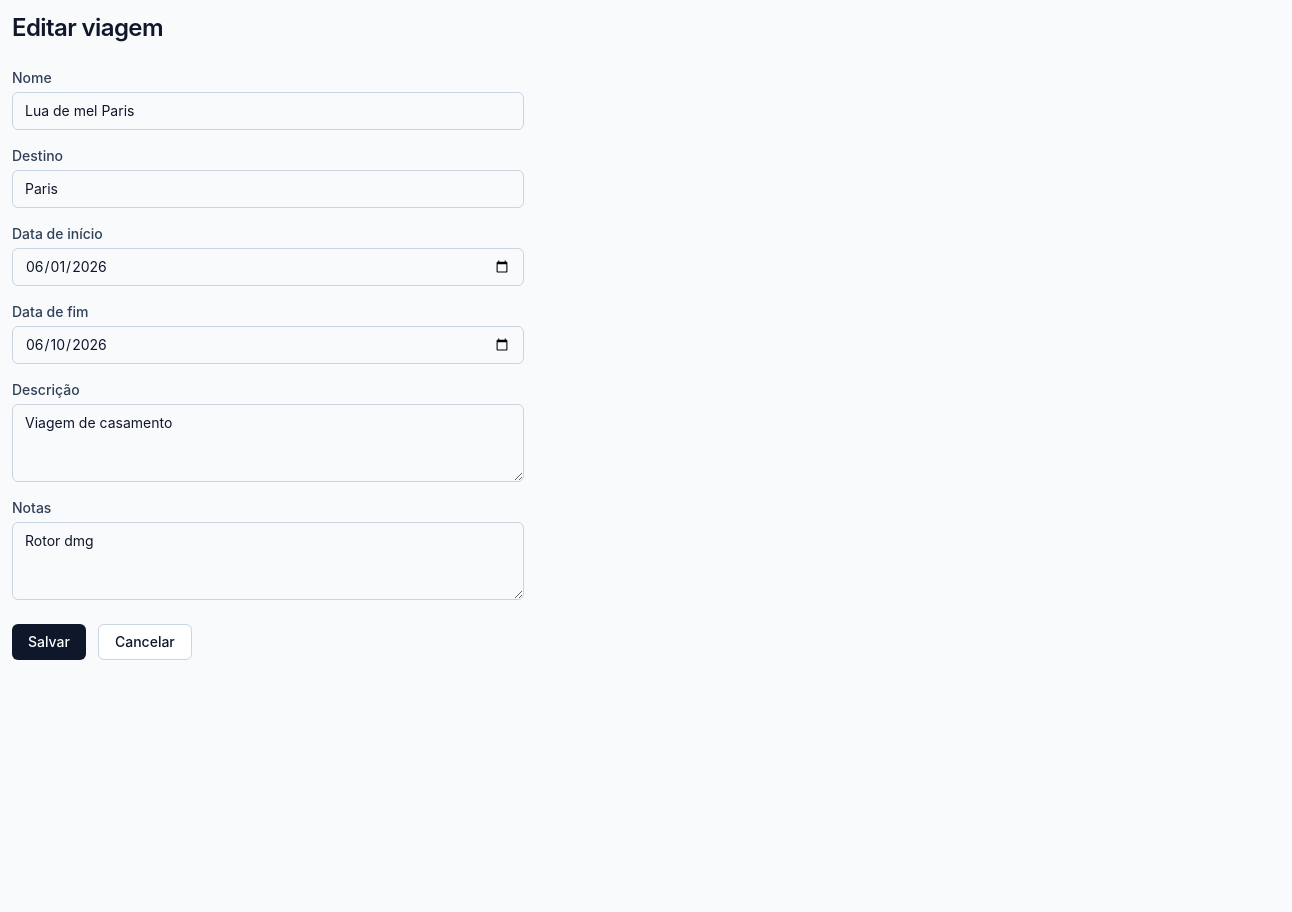
Test: TripEditPage › 400 error shows the backend message
Check: the field labelled "Nome" is shown, box top-left (12, 92), bottom-right (524, 130)
Click the button "Salvar" at (49, 642), box top-left (12, 624), bottom-right (86, 660)
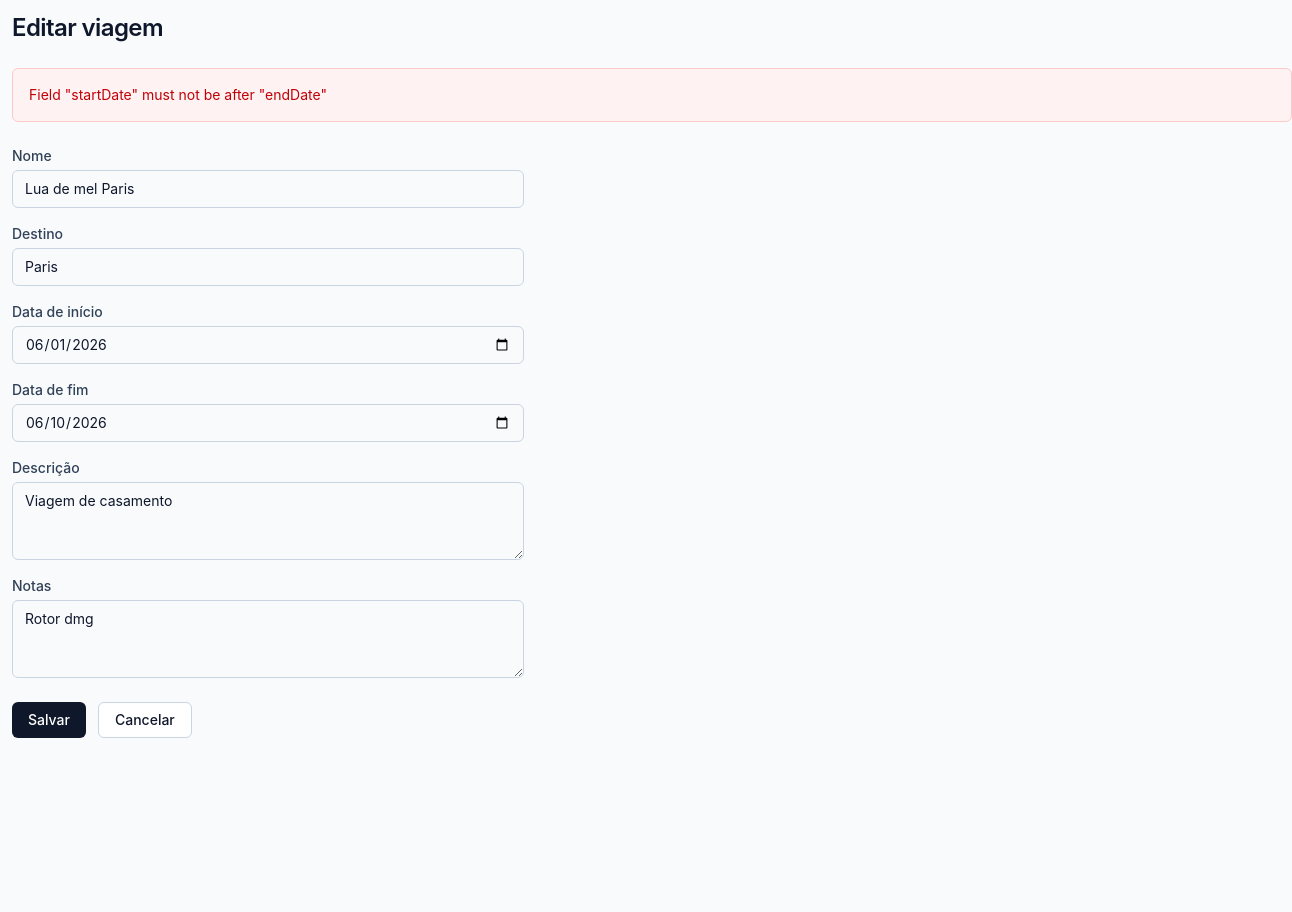
Check: the text "Field \"startDate\" must not be after \"endDate\"" is shown, box top-left (12, 68), bottom-right (1291, 122)
